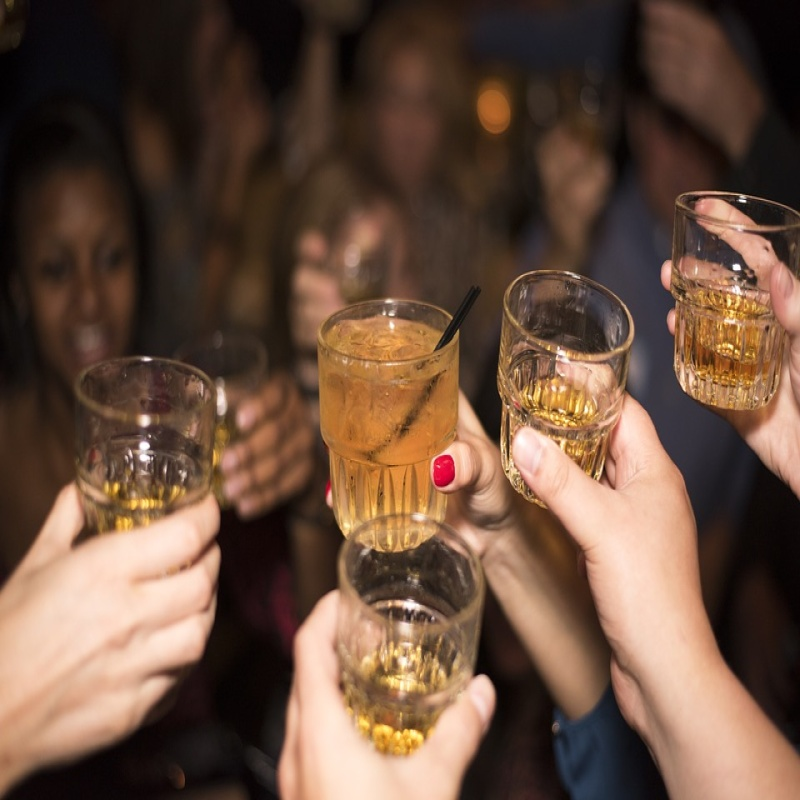whiskey: (337, 524, 489, 746), (333, 292, 462, 536), (502, 271, 637, 502), (69, 355, 220, 515), (670, 189, 770, 418)
